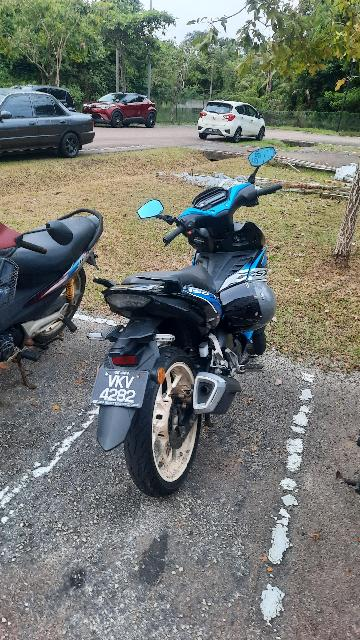License_Plate: (83, 360, 156, 422)
motorcycle: (69, 147, 296, 495), (2, 189, 107, 398)
